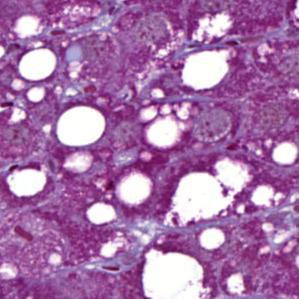steatosis: (168, 170, 230, 222), (180, 48, 238, 89), (55, 106, 108, 147), (14, 44, 62, 83)
